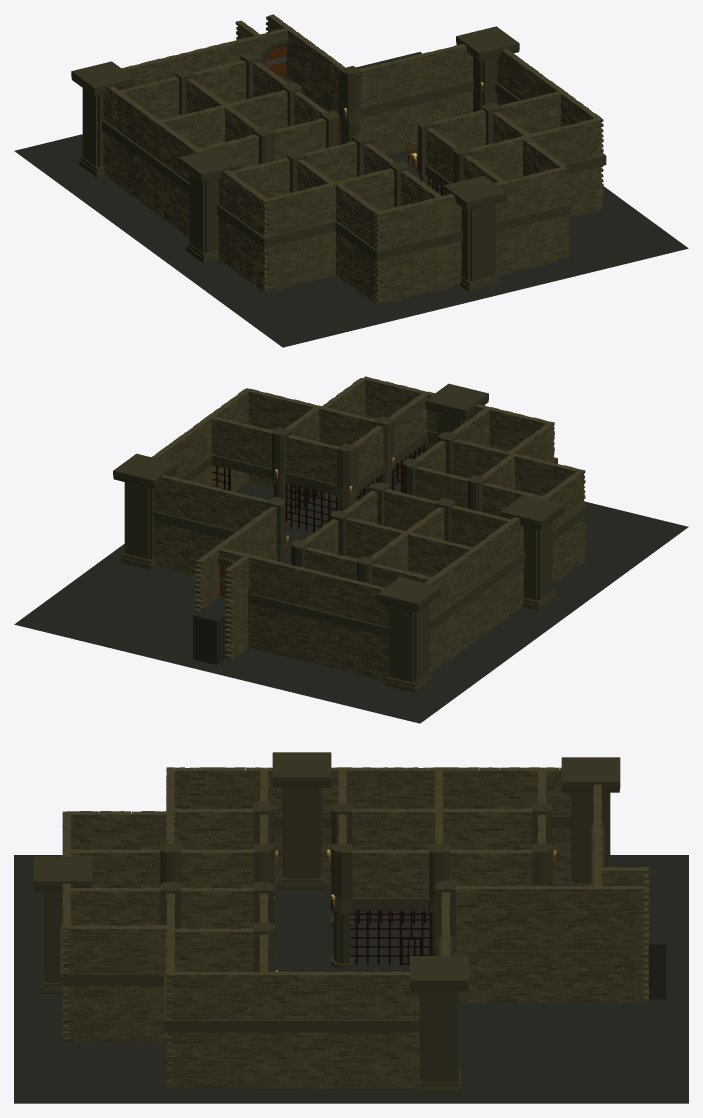
The model's file is catacomb_prison.fbx.
The picture shows the model from 3 angles, top to bottom: view 1: azimuth 30°, elevation 25°; view 2: azimuth 150°, elevation 25°; view 3: azimuth 270°, elevation 25°; orthographic projection. The views are drawn at different scales.
Visible parts, largest first — view 1: Prison_Wall, Prison_Floor, Prison_Wall_Details, Prison_Pillar, Prison_Exit_Door; view 2: Prison_Wall, Prison_Floor, Prison_Pillar, Prison_Wall_Details, Prison_Ladder, Prison_Cells; view 3: Prison_Wall, Prison_Floor, Prison_Pillar, Prison_Wall_Details, Prison_Cells, Prison_Ladder.
Part boxes in pixels (bbox=[...]): Prison_Wall: bbox=[103, 14, 603, 304]; Prison_Floor: bbox=[14, 52, 688, 347]; Prison_Wall_Details: bbox=[102, 36, 606, 260]; Prison_Pillar: bbox=[71, 26, 519, 291]; Prison_Exit_Door: bbox=[265, 46, 286, 77]; Prison_Wall: bbox=[151, 376, 585, 680]; Prison_Floor: bbox=[14, 476, 688, 723]; Prison_Pillar: bbox=[113, 383, 564, 692]; Prison_Wall_Details: bbox=[153, 415, 587, 648]; Prison_Ladder: bbox=[193, 596, 226, 665]; Prison_Cells: bbox=[212, 443, 424, 532]; Prison_Wall: bbox=[62, 767, 649, 1088]; Prison_Floor: bbox=[14, 855, 688, 1103]; Prison_Pillar: bbox=[34, 752, 620, 1093]; Prison_Wall_Details: bbox=[60, 802, 604, 1032]; Prison_Cells: bbox=[139, 910, 431, 966]; Prison_Ladder: bbox=[645, 929, 666, 999].
Size of the model in its own units: 3833 by 851 by 4394.
